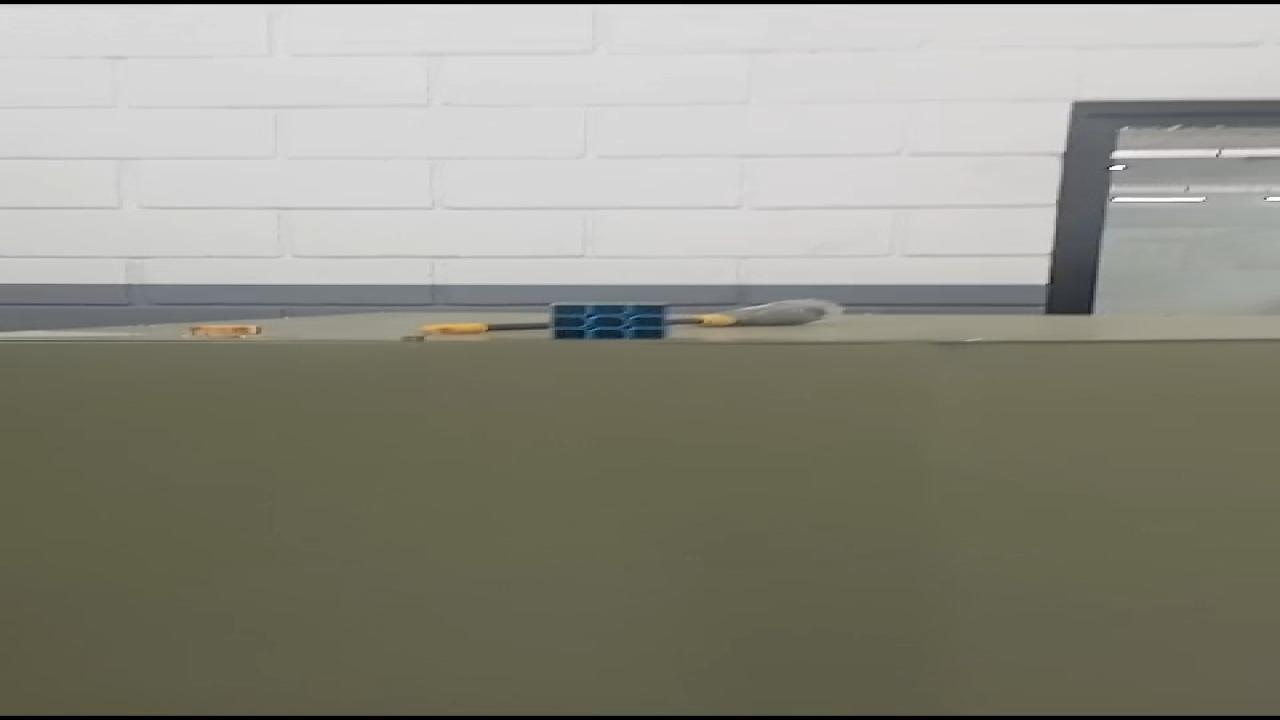Cube: (544, 301, 667, 339)
